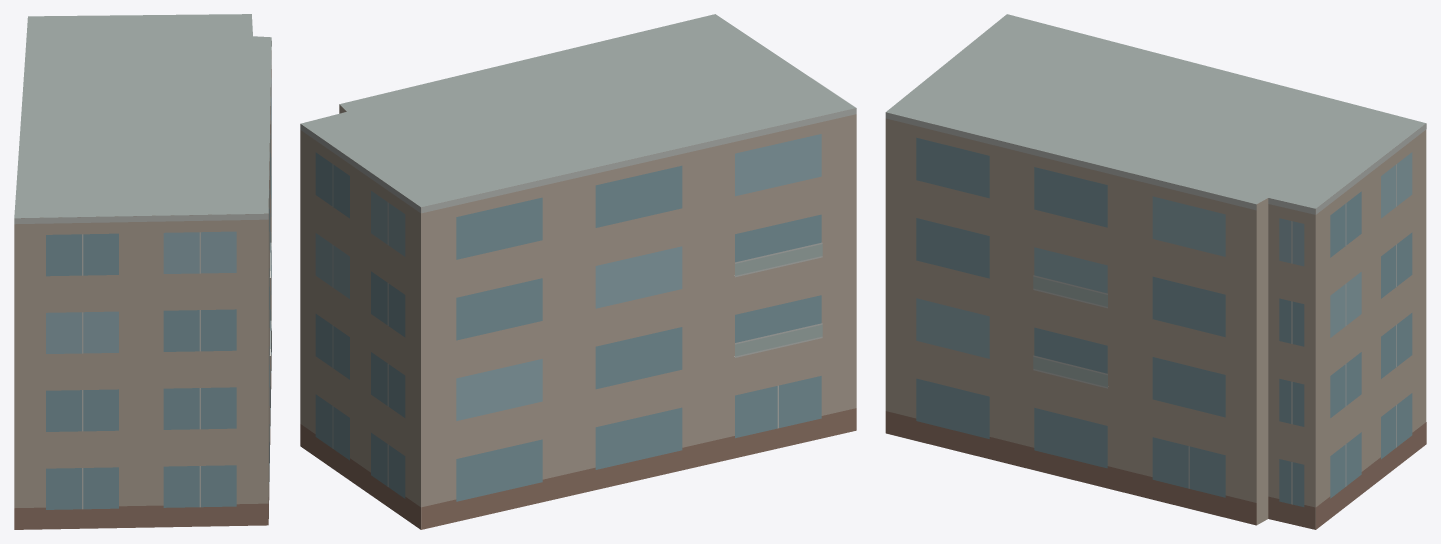
Rendered from survey-upis-32515908.glb.
3 renders of one model, left to right at view 1: azimuth 30°, elevation 25°; view 2: azimuth 150°, elevation 25°; view 3: azimuth 270°, elevation 25°, orthographic. The views are drawn at different scales.
Visible parts, largest first — view 1: survey-upis-32515908.tmp; view 2: survey-upis-32515908.tmp; view 3: survey-upis-32515908.tmp.
Part boxes in pixels (x1,y1,x2,y2): survey-upis-32515908.tmp: (14,14,271,529); survey-upis-32515908.tmp: (300,14,856,529); survey-upis-32515908.tmp: (885,14,1426,529).
Size of the model in its own units: 16.66 by 12.8 by 19.55.
